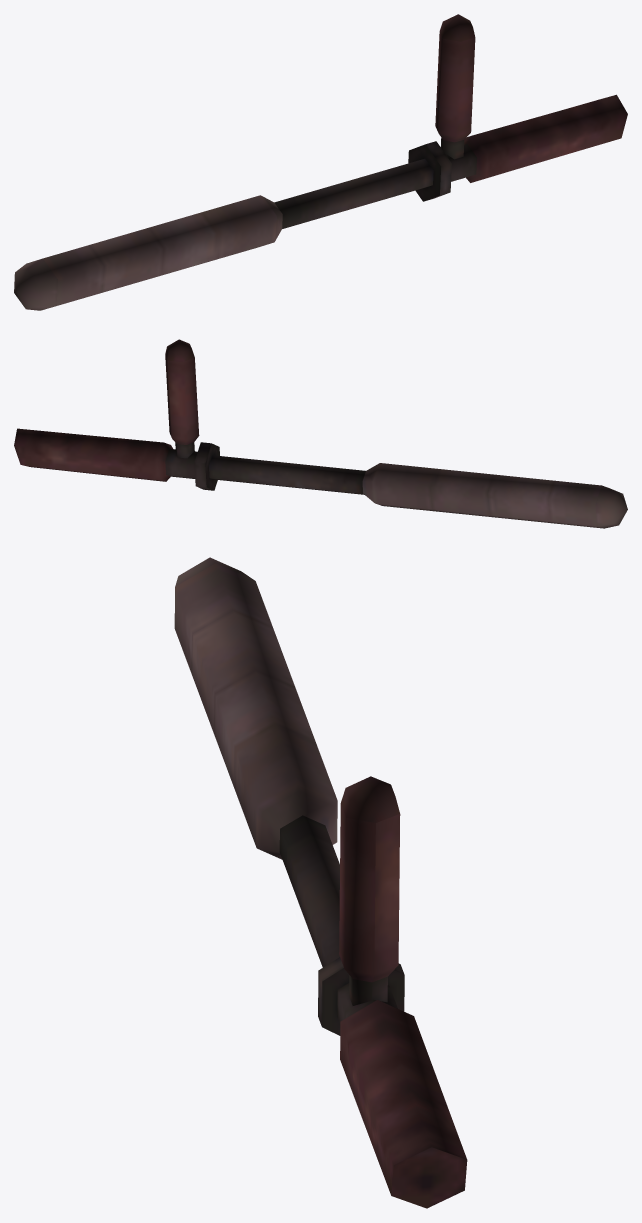
The model's file is int_merc_baton.glb.
The picture shows the model from 3 angles, top to bottom: view 1: azimuth 30°, elevation 25°; view 2: azimuth 150°, elevation 25°; view 3: azimuth 270°, elevation 25°; orthographic projection. The views are drawn at different scales.
Parts seen in each view (by area): view 1: weapons/int_merc_baton_0; view 2: weapons/int_merc_baton_0; view 3: weapons/int_merc_baton_0.
Part boxes in pixels (<box>): weapons/int_merc_baton_0: <box>14,14,627,310</box>; weapons/int_merc_baton_0: <box>14,339,627,528</box>; weapons/int_merc_baton_0: <box>174,557,467,1208</box>.
Size of the model in its own units: 2 by 0.5182 by 0.4571.
1 material, 1 textured.
